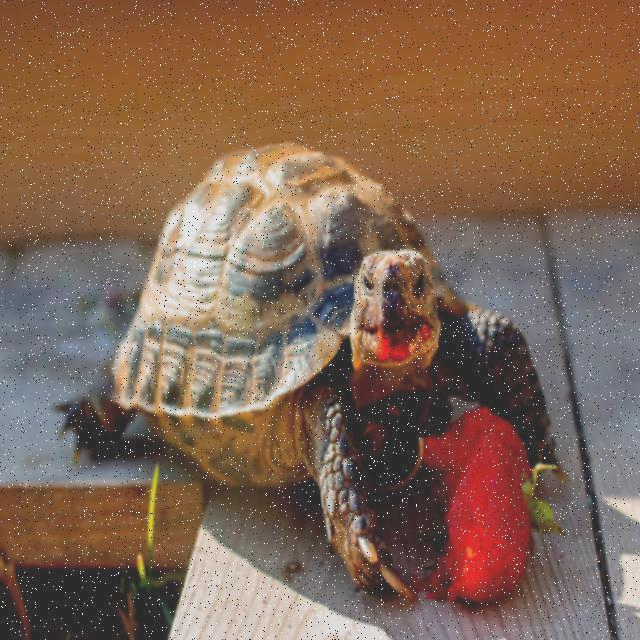tortoise: (46, 136, 560, 588)
